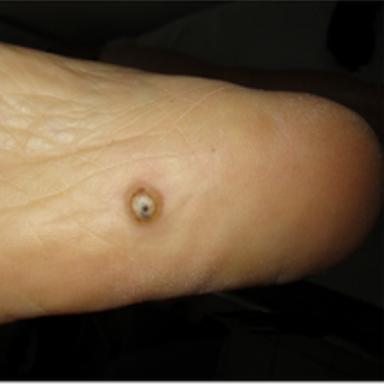Tungiasis: (127, 185, 160, 225)
